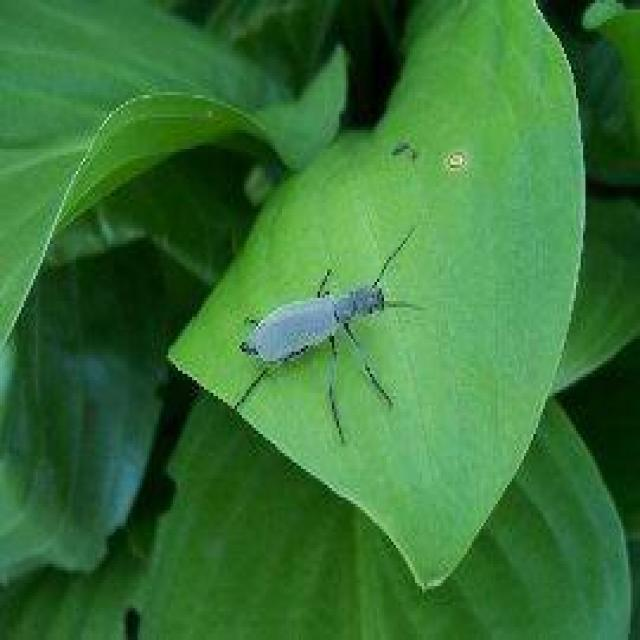BlisterBeetle-Adult-: (225, 213, 428, 429)
